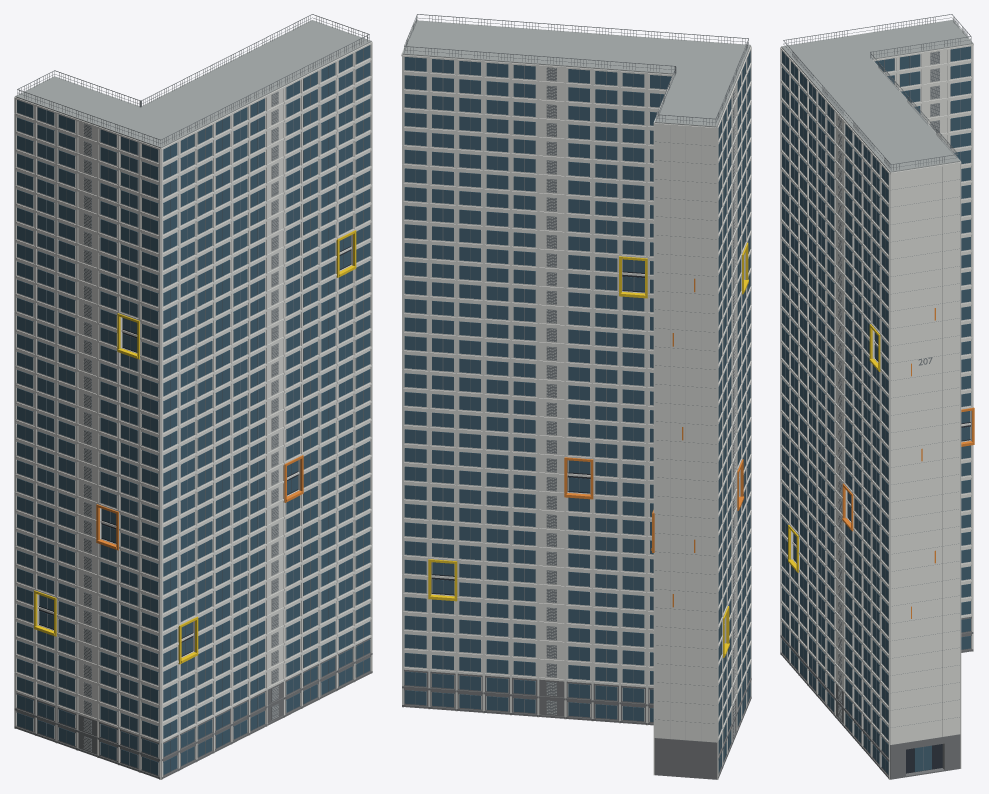
Rendered from bespoke-songpa-helio-city-207.glb.
3 renders of one model, left to right at view 1: azimuth 30°, elevation 25°; view 2: azimuth 150°, elevation 25°; view 3: azimuth 270°, elevation 25°, orthographic. The views are drawn at different scales.
Visible parts, largest first — view 1: Helio207_editable_Helio207_dark_blue_grey_glazing, Helio207_editable_Helio207_white_slab_frames, Helio207_editable_Helio207_grey_service_grille, Helio207_editable_Helio207_low_roof_deck, Helio207_editable_Helio207_dark_grey_twofloor_base, Helio207_editable_Helio207_blankwall_grey_panels, Helio207_editable_Helio207_yellow_projecting_rectangular_fra, Helio207_editable_Helio207_orange_narrow_accent; view 2: Helio207_editable_Helio207_white_slab_frames, Helio207_editable_Helio207_dark_blue_grey_glazing, Helio207_editable_Helio207_grey_service_grille, Helio207_editable_Helio207_low_roof_deck, Helio207_editable_Helio207_dark_grey_twofloor_base, Helio207_editable_Helio207_blankwall_grey_panels, Helio207_editable_Helio207_yellow_projecting_rectangular_fra, Helio207_editable_Helio207_orange_narrow_accent; view 3: Helio207_editable_Helio207_white_slab_frames, Helio207_editable_Helio207_dark_blue_grey_glazing, Helio207_editable_Helio207_low_roof_deck, Helio207_editable_Helio207_grey_service_grille, Helio207_editable_Helio207_dark_grey_twofloor_base, Helio207_editable_Helio207_blankwall_grey_panels, Helio207_editable_Helio207_orange_narrow_accent, Helio207_editable_Helio207_yellow_projecting_rectangular_fra, Helio207_editable_Helio207_deep_shaded_frame_recess.
Part boxes in pixels (x1,y1,x2,y2): Helio207_editable_Helio207_dark_blue_grey_glazing: [17, 45, 370, 775]; Helio207_editable_Helio207_white_slab_frames: [14, 41, 372, 779]; Helio207_editable_Helio207_grey_service_grille: [17, 14, 369, 772]; Helio207_editable_Helio207_low_roof_deck: [15, 20, 371, 148]; Helio207_editable_Helio207_dark_grey_twofloor_base: [14, 638, 372, 779]; Helio207_editable_Helio207_blankwall_grey_panels: [84, 91, 278, 751]; Helio207_editable_Helio207_yellow_projecting_rectangular_fra: [34, 230, 356, 664]; Helio207_editable_Helio207_orange_narrow_accent: [96, 455, 303, 550]; Helio207_editable_Helio207_white_slab_frames: [401, 21, 751, 779]; Helio207_editable_Helio207_dark_blue_grey_glazing: [404, 51, 750, 772]; Helio207_editable_Helio207_grey_service_grille: [404, 14, 748, 770]; Helio207_editable_Helio207_low_roof_deck: [402, 20, 750, 127]; Helio207_editable_Helio207_dark_grey_twofloor_base: [402, 669, 751, 779]; Helio207_editable_Helio207_blankwall_grey_panels: [547, 68, 735, 740]; Helio207_editable_Helio207_yellow_projecting_rectangular_fra: [428, 242, 748, 657]; Helio207_editable_Helio207_orange_narrow_accent: [564, 278, 744, 607]; Helio207_editable_Helio207_white_slab_frames: [780, 21, 973, 779]; Helio207_editable_Helio207_dark_blue_grey_glazing: [782, 46, 970, 774]; Helio207_editable_Helio207_low_roof_deck: [781, 19, 973, 172]; Helio207_editable_Helio207_grey_service_grille: [783, 14, 971, 770]; Helio207_editable_Helio207_dark_grey_twofloor_base: [780, 616, 973, 779]; Helio207_editable_Helio207_blankwall_grey_panels: [838, 51, 942, 736]; Helio207_editable_Helio207_orange_narrow_accent: [842, 308, 974, 618]; Helio207_editable_Helio207_yellow_projecting_rectangular_fra: [788, 324, 880, 572]; Helio207_editable_Helio207_deep_shaded_frame_recess: [793, 340, 970, 773].
Size of the model in its own units: 52.82 by 99 by 28.35.
